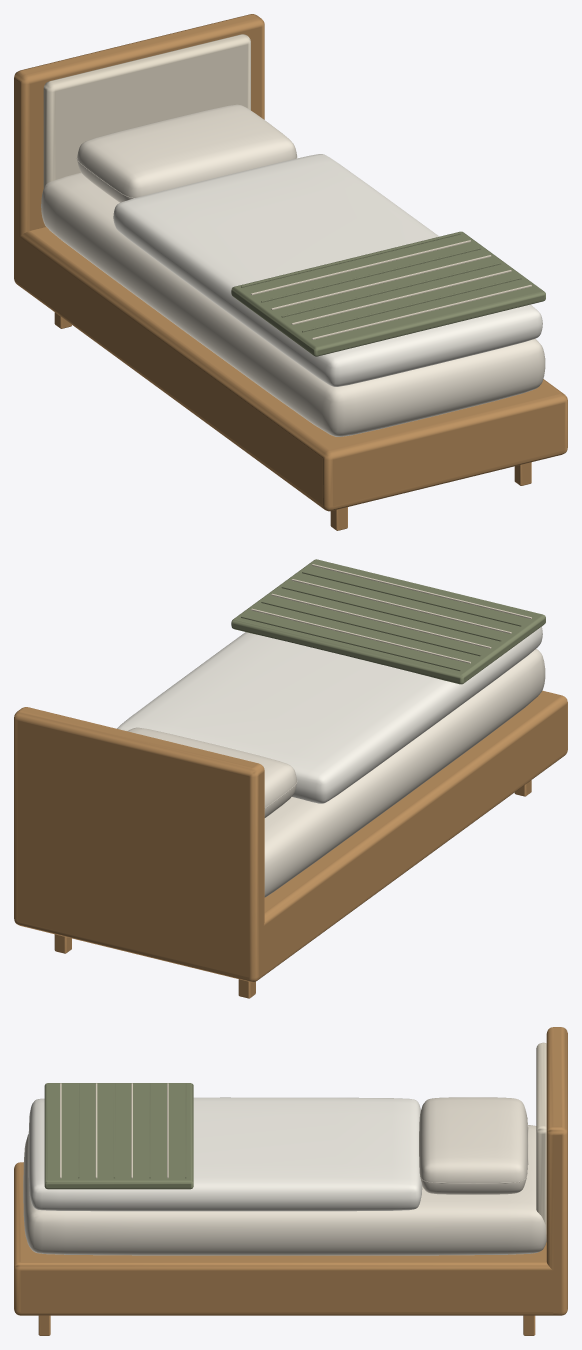
3 renders of one model, top to bottom at view 1: azimuth 30°, elevation 25°; view 2: azimuth 150°, elevation 25°; view 3: azimuth 270°, elevation 25°, orthographic. The views are drawn at different scales.
Visible parts, largest first — view 1: Oak platform, Duvet, Mattress, Sage bed throw, Upholstered headboard inset, Cotton pillow, Headboard; view 2: Headboard, Duvet, Oak platform, Sage bed throw, Mattress, Cotton pillow, Throw stitched fold.002, Throw stitched fold.003, Throw stitched fold.004, Throw stitched fold.005, Throw stitched fold.006, Throw stitched fold (+2 smaller); view 3: Oak platform, Duvet, Mattress, Sage bed throw, Cotton pillow, Headboard, Upholstered headboard inset.
Boxes of the visible parts, left/top/right/bottom form: Oak platform: left=19, top=227, right=567, bottom=511; Duvet: left=113, top=154, right=542, bottom=386; Mattress: left=41, top=172, right=545, bottom=436; Sage bed throw: left=231, top=231, right=545, bottom=356; Upholstered headboard inset: left=43, top=34, right=250, bottom=187; Cotton pillow: left=77, top=104, right=296, bottom=202; Headboard: left=14, top=14, right=264, bottom=286; Headboard: left=14, top=707, right=264, bottom=982; Duvet: left=117, top=626, right=542, bottom=803; Oak platform: left=262, top=690, right=567, bottom=976; Sage bed throw: left=231, top=559, right=545, bottom=684; Mattress: left=264, top=649, right=545, bottom=897; Cotton pillow: left=127, top=727, right=296, bottom=817; Throw stitched fold.002: left=261, top=601, right=481, bottom=656; Throw stitched fold.003: left=271, top=593, right=491, bottom=648; Throw stitched fold.004: left=281, top=586, right=501, bottom=641; Throw stitched fold.005: left=291, top=579, right=511, bottom=633; Throw stitched fold.006: left=302, top=571, right=521, bottom=626; Throw stitched fold: left=241, top=616, right=460, bottom=671; Oak platform: left=14, top=1162, right=553, bottom=1315; Duvet: left=28, top=1097, right=422, bottom=1211; Mattress: left=23, top=1125, right=546, bottom=1255; Sage bed throw: left=44, top=1083, right=193, bottom=1189; Cotton pillow: left=419, top=1097, right=527, bottom=1194; Headboard: left=546, top=1027, right=567, bottom=1315; Upholstered headboard inset: left=536, top=1042, right=546, bottom=1235.
Size of the model in its own units: 0.93 by 0.9 by 2.08.
